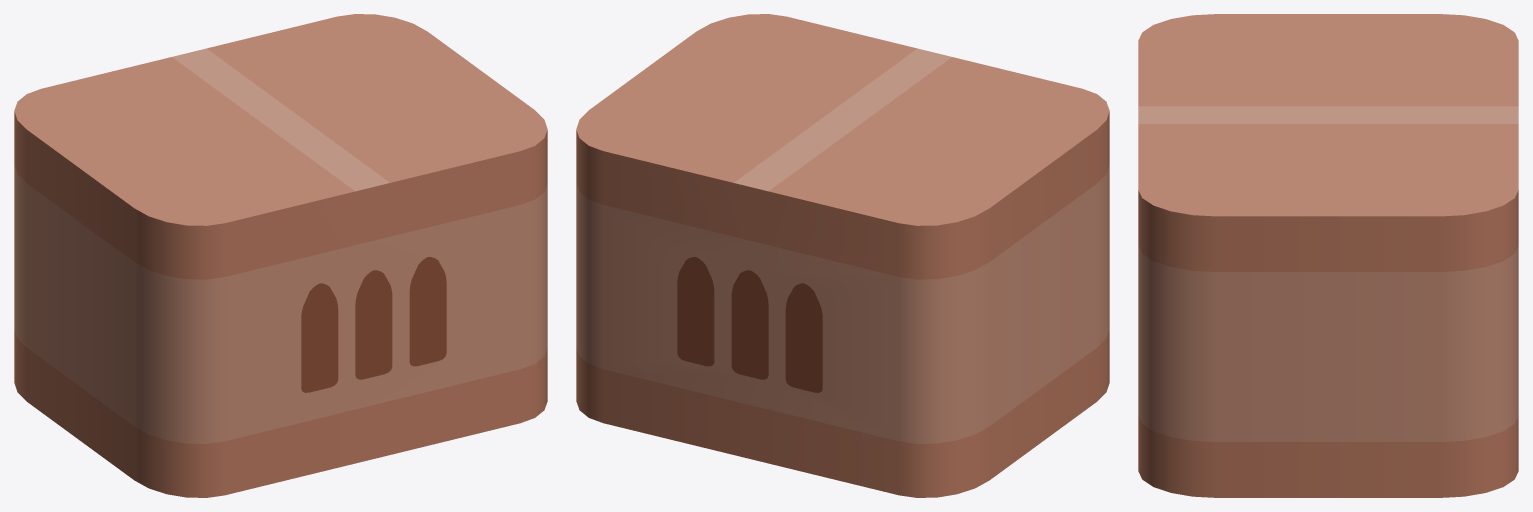
The model's file is Ammo Box.fbx.
3 views of the same model, side by side, from view 1: azimuth 30°, elevation 25°; view 2: azimuth 150°, elevation 25°; view 3: azimuth 270°, elevation 25° (orthographic). The views are drawn at different scales.
Parts seen in each view (by area): view 1: Ammo Box; view 2: Ammo Box; view 3: Ammo Box.
Part boxes in pixels (x1,y1,x2,y2): Ammo Box: (14,14,547,497); Ammo Box: (576,14,1109,497); Ammo Box: (1138,14,1518,497).
Bounding box in the file's own units: 0.4316 × 0.2798 × 0.3424.
